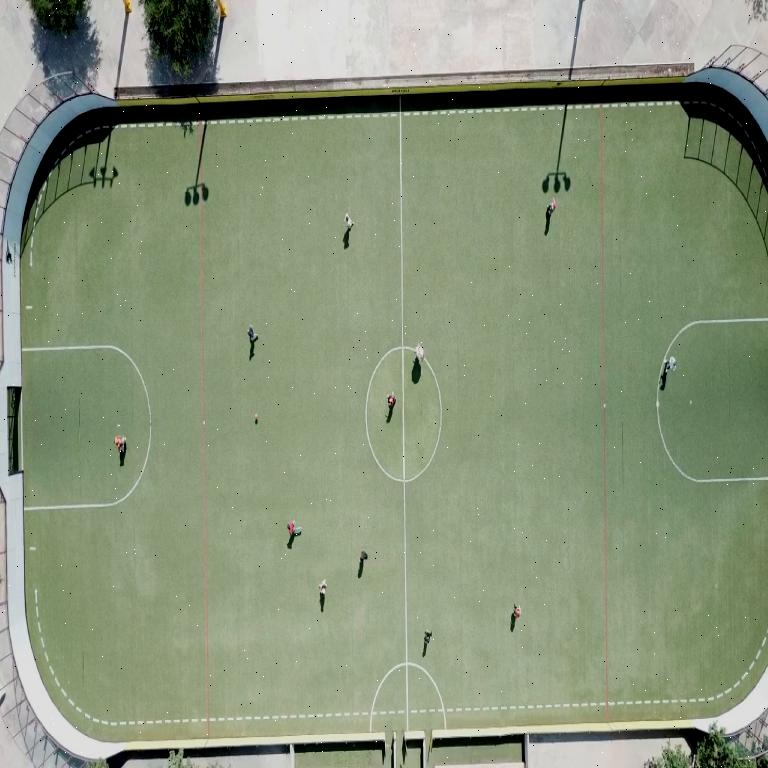AC: (23, 347, 152, 508), (658, 399, 768, 482), (667, 318, 768, 351)
B: (254, 413, 258, 422)
MC: (402, 482, 409, 724), (399, 98, 404, 338), (399, 100, 404, 339), (402, 405, 406, 480), (401, 348, 404, 387), (402, 349, 404, 386), (403, 405, 404, 477), (404, 564, 407, 587), (405, 587, 407, 604)
P: (424, 631, 432, 654), (287, 521, 299, 536), (247, 325, 257, 342), (546, 198, 555, 216), (115, 435, 125, 451), (415, 343, 423, 362), (319, 580, 327, 598), (387, 392, 395, 409), (344, 214, 352, 230), (667, 357, 676, 370), (359, 550, 367, 563), (513, 604, 519, 619)
